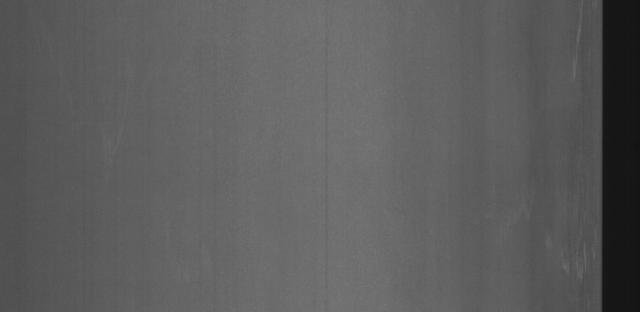silk_spot: (554, 206, 594, 302), (566, 9, 600, 92)
